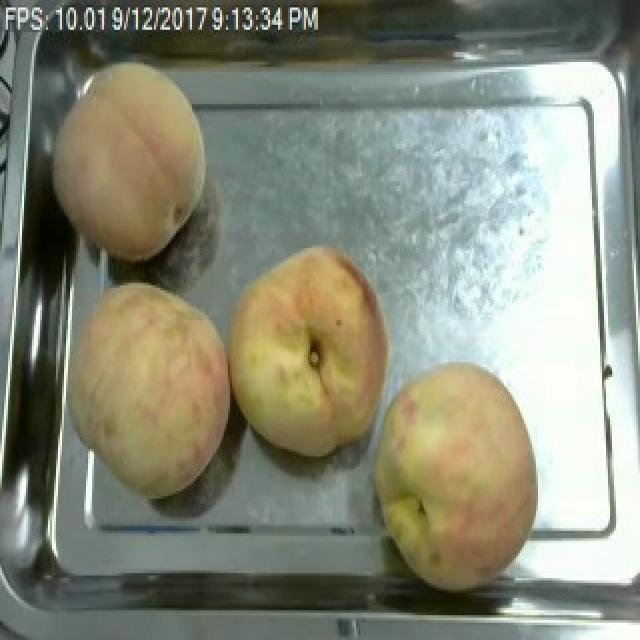Fruit: (362, 355, 548, 603), (50, 271, 240, 504), (222, 240, 406, 464), (42, 54, 218, 268)
